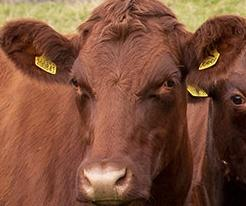muzzles: (72, 160, 155, 206)
